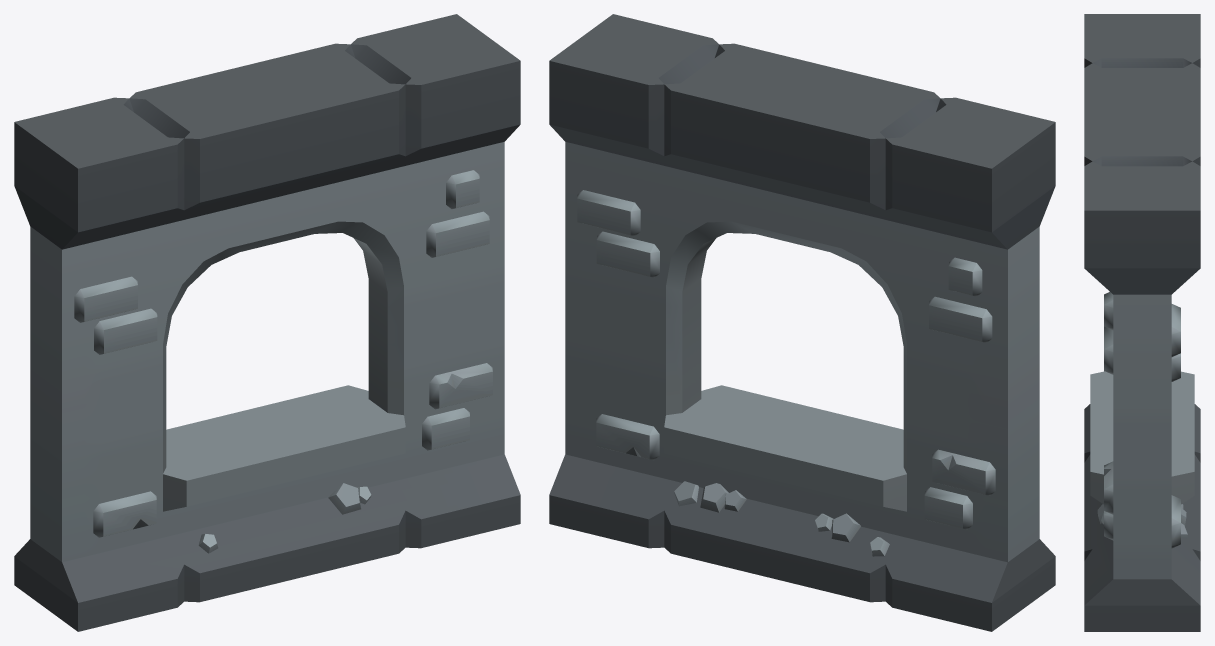
The model's file is wall_archedwindow_open.glb.
The picture shows the model from 3 angles, left to right: view 1: azimuth 30°, elevation 25°; view 2: azimuth 150°, elevation 25°; view 3: azimuth 270°, elevation 25°; orthographic projection. The views are drawn at different scales.
Visible parts, largest first — view 1: wall_archedwindow_open; view 2: wall_archedwindow_open; view 3: wall_archedwindow_open.
Part boxes in pixels (x1,y1,x2,y2): wall_archedwindow_open: (14,14,520,631); wall_archedwindow_open: (549,14,1055,631); wall_archedwindow_open: (1084,14,1200,631).
Size of the model in its own units: 4 by 4 by 1.
Materials: 1 (1 with a texture image).
